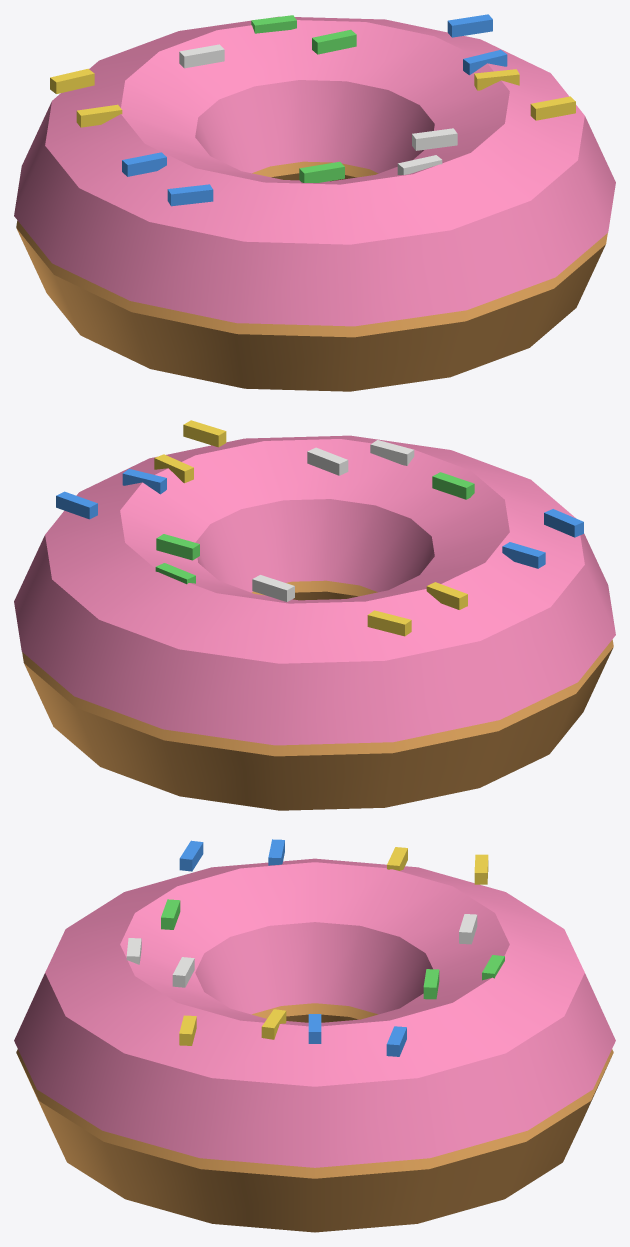
File: Donut.fbx
The picture shows the model from 3 angles, top to bottom: view 1: azimuth 30°, elevation 25°; view 2: azimuth 150°, elevation 25°; view 3: azimuth 270°, elevation 25°; orthographic projection.
Parts seen in each view (by area): view 1: Donut; view 2: Donut; view 3: Donut.
Part boxes in pixels (x1,y1,x2,y2): Donut: [14, 14, 615, 391]; Donut: [14, 420, 615, 810]; Donut: [14, 839, 615, 1232].
Size of the model in its own units: 1.39 by 0.525 by 1.39.
1 material, 1 textured.
